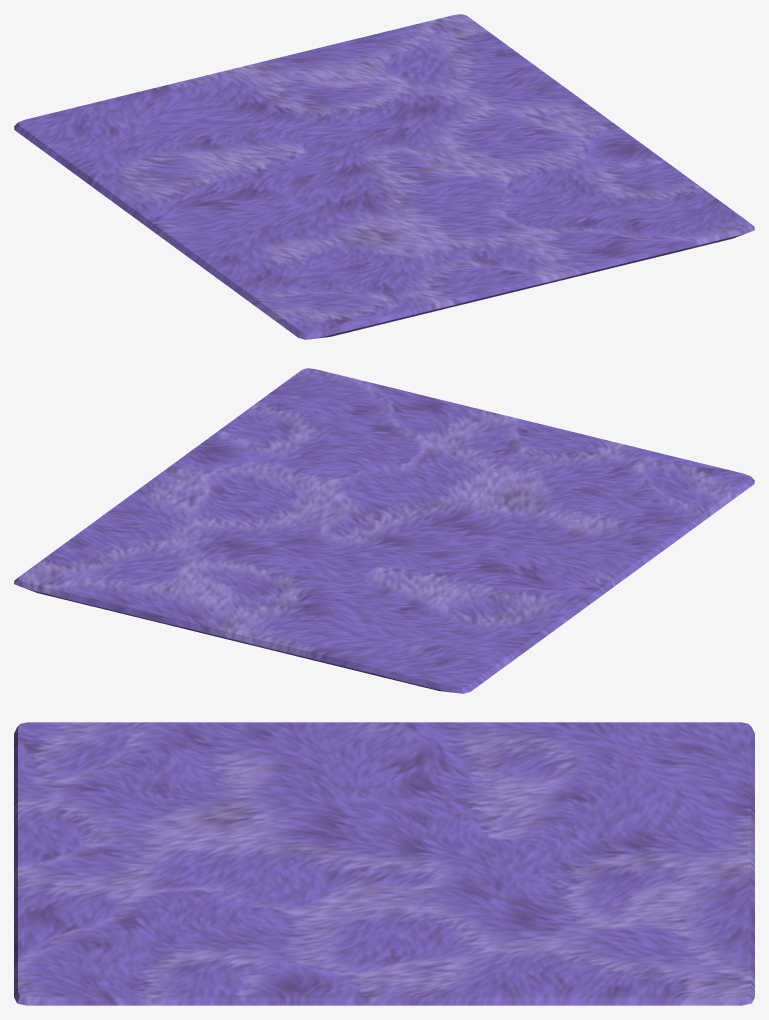
File: Throw_Rug_03.FBX
The picture shows the model from 3 angles, top to bottom: view 1: azimuth 30°, elevation 25°; view 2: azimuth 150°, elevation 25°; view 3: azimuth 270°, elevation 25°; orthographic projection. The views are drawn at different scales.
Parts seen in each view (by area): view 1: Shag_Carpet; view 2: Shag_Carpet; view 3: Shag_Carpet.
Boxes of the visible parts, x1,y1,x2,y2 form: Shag_Carpet: (14,14,754,339); Shag_Carpet: (14,368,754,693); Shag_Carpet: (14,722,754,1005).
Bounding box in the file's own units: 244 × 3.17 × 273.
